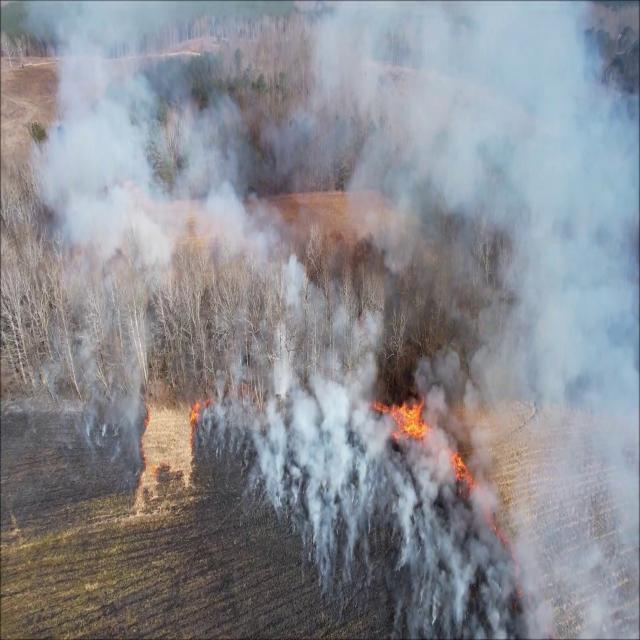Fire: (388, 388, 430, 456)
Smoke: (313, 15, 640, 282), (493, 293, 640, 640), (27, 6, 187, 273), (264, 373, 389, 590), (195, 83, 310, 317), (392, 474, 505, 640)
